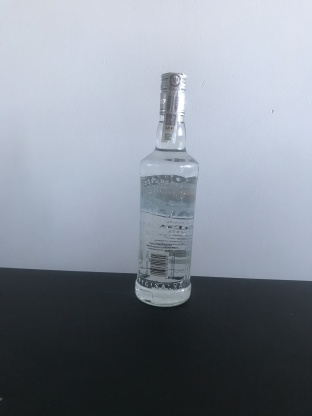nakretka: (157, 67, 188, 117)
